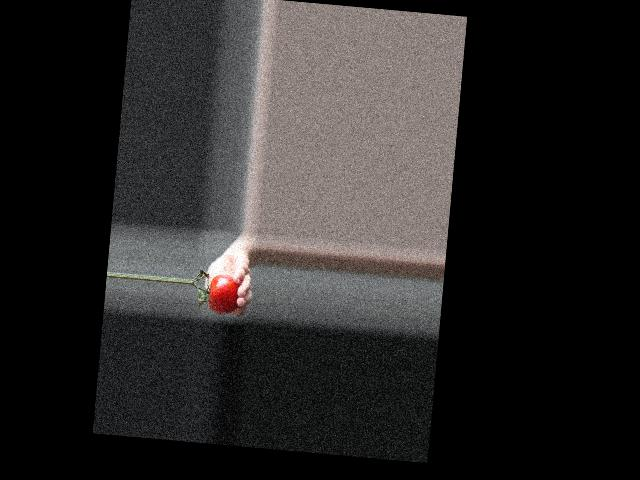tomato: (206, 273, 240, 315)
